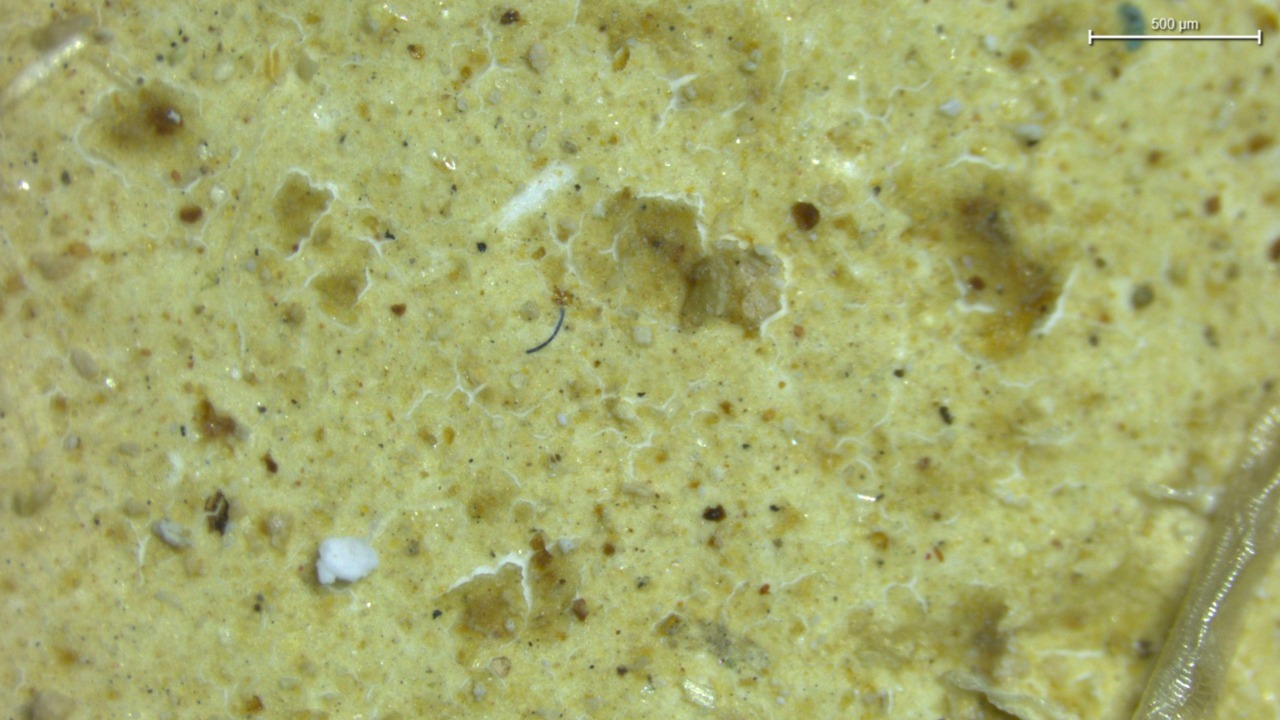microplastic_fragment: (316, 537, 379, 584)
